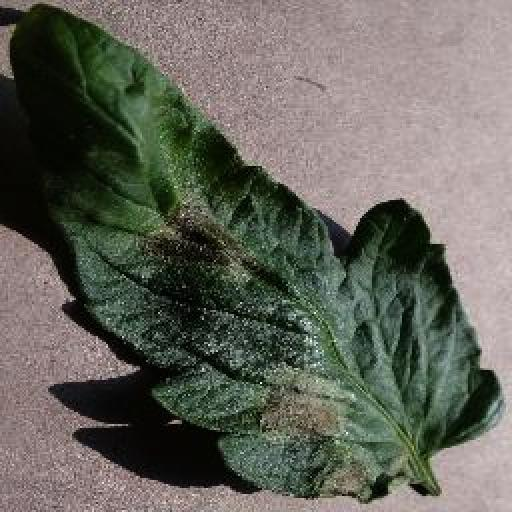disease_tomato: (10, 1, 504, 503)
